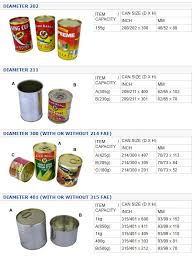can: (9, 14, 84, 63), (10, 141, 86, 188), (15, 207, 80, 250), (16, 78, 74, 125)
